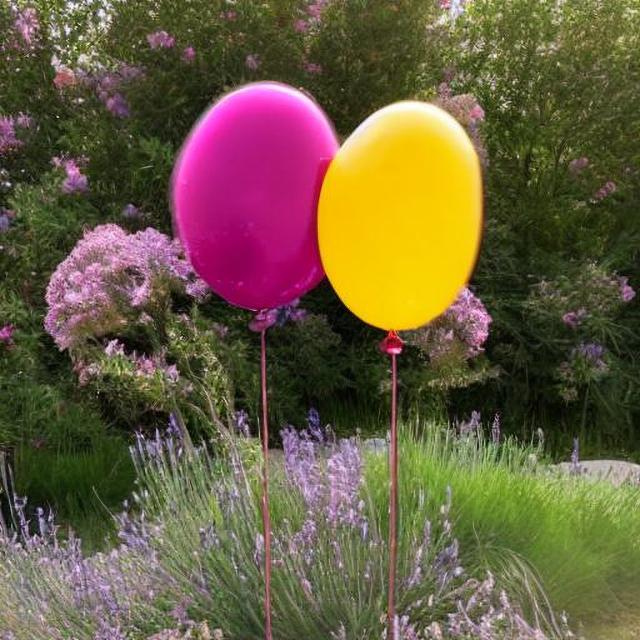balloon: (163, 78, 363, 330), (324, 94, 486, 331)
